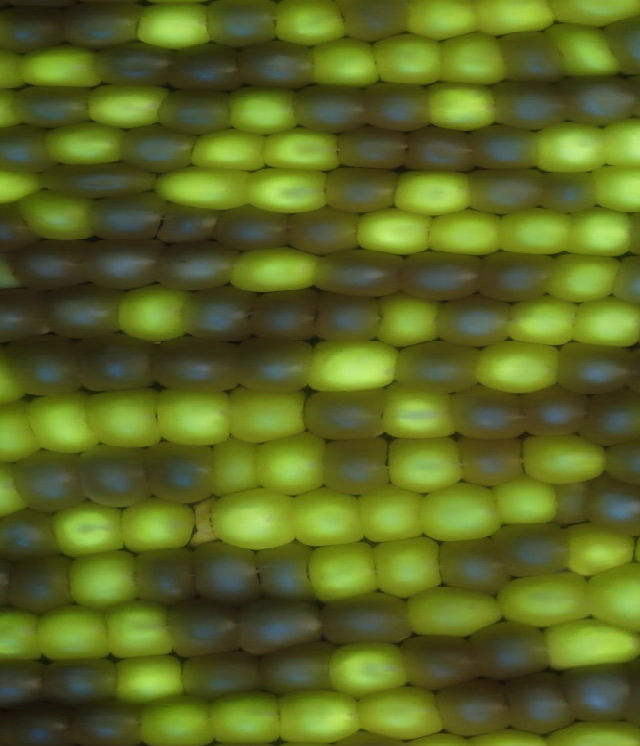fluorescent: (491, 566, 599, 632), (207, 482, 302, 553), (400, 580, 505, 642), (270, 681, 370, 746), (539, 613, 640, 676), (77, 384, 169, 453), (148, 159, 259, 215), (148, 382, 236, 452), (515, 426, 614, 488), (412, 480, 509, 543), (22, 386, 107, 457), (99, 595, 185, 665), (369, 531, 448, 607), (300, 534, 380, 609), (248, 428, 334, 497), (307, 335, 404, 396), (219, 382, 309, 447), (324, 638, 413, 703), (355, 681, 448, 743), (30, 600, 116, 667), (524, 114, 611, 180), (283, 484, 370, 550), (12, 185, 103, 247), (467, 337, 564, 394), (110, 281, 195, 345), (540, 246, 629, 307), (385, 432, 469, 496), (375, 381, 460, 444), (226, 241, 325, 295), (541, 18, 627, 80), (366, 28, 449, 92), (117, 493, 200, 557), (63, 546, 143, 612), (201, 684, 286, 746), (240, 162, 334, 218), (47, 498, 131, 560), (354, 481, 432, 547), (37, 116, 130, 171), (559, 517, 640, 580), (500, 290, 581, 352), (108, 650, 190, 711), (421, 75, 502, 136), (80, 80, 173, 133), (352, 201, 435, 260), (487, 204, 577, 258), (423, 206, 509, 262), (388, 166, 477, 220), (16, 40, 108, 92), (431, 28, 510, 88), (374, 288, 448, 352), (128, 1, 214, 56), (136, 691, 222, 746), (223, 80, 303, 138), (185, 124, 274, 176), (258, 124, 347, 176), (582, 558, 640, 637), (307, 33, 384, 92), (267, 1, 357, 50), (487, 472, 562, 529), (558, 204, 635, 259), (567, 294, 640, 351), (204, 432, 265, 499), (400, 1, 486, 44), (470, 1, 564, 40), (0, 602, 53, 667), (0, 393, 43, 468), (540, 1, 640, 32), (585, 160, 640, 216), (542, 717, 640, 746), (0, 452, 36, 523), (0, 162, 48, 214), (597, 114, 640, 172), (0, 42, 34, 94)
nonfluorescent: (392, 626, 488, 697), (317, 586, 419, 651), (143, 332, 243, 398), (67, 330, 163, 398), (555, 656, 637, 732), (494, 666, 578, 740), (7, 233, 100, 299), (9, 446, 93, 519), (309, 245, 414, 303), (429, 676, 519, 743), (236, 595, 327, 661), (390, 338, 488, 399), (465, 620, 558, 684), (161, 594, 248, 662), (186, 539, 267, 612), (1, 331, 83, 403), (137, 438, 221, 508), (389, 245, 488, 304), (74, 442, 155, 514), (40, 278, 124, 347), (74, 233, 167, 295), (1, 550, 81, 622), (83, 37, 184, 93), (32, 158, 163, 201), (225, 336, 317, 397), (35, 654, 130, 713), (151, 236, 245, 295), (448, 382, 534, 446), (300, 384, 391, 444), (174, 284, 262, 346), (492, 519, 578, 582), (256, 637, 342, 700), (307, 281, 386, 349), (472, 248, 560, 309), (288, 80, 377, 140), (175, 646, 264, 706), (431, 290, 517, 352), (553, 338, 639, 400), (206, 202, 300, 258), (128, 541, 203, 611), (486, 75, 570, 136), (492, 25, 573, 88), (235, 35, 319, 95), (115, 119, 203, 176), (318, 434, 394, 500), (245, 283, 323, 347), (158, 39, 245, 96), (253, 539, 324, 608), (83, 188, 167, 246), (355, 76, 436, 136), (560, 72, 640, 132), (282, 204, 367, 260), (461, 164, 549, 218), (54, 2, 147, 53), (64, 694, 154, 746), (321, 161, 404, 217), (153, 84, 238, 137), (464, 120, 543, 177), (7, 80, 95, 131), (581, 471, 640, 547), (394, 124, 480, 176), (517, 384, 595, 441), (449, 435, 529, 490), (201, 1, 285, 53), (330, 124, 418, 173), (577, 388, 640, 453), (0, 698, 83, 746), (0, 508, 68, 565), (0, 5, 73, 57), (0, 284, 57, 349), (331, 1, 411, 46), (0, 119, 60, 179), (591, 11, 640, 80), (0, 654, 56, 714), (538, 167, 603, 218), (157, 198, 222, 249), (543, 476, 597, 529), (597, 433, 640, 492), (0, 199, 42, 255), (608, 251, 640, 308)
